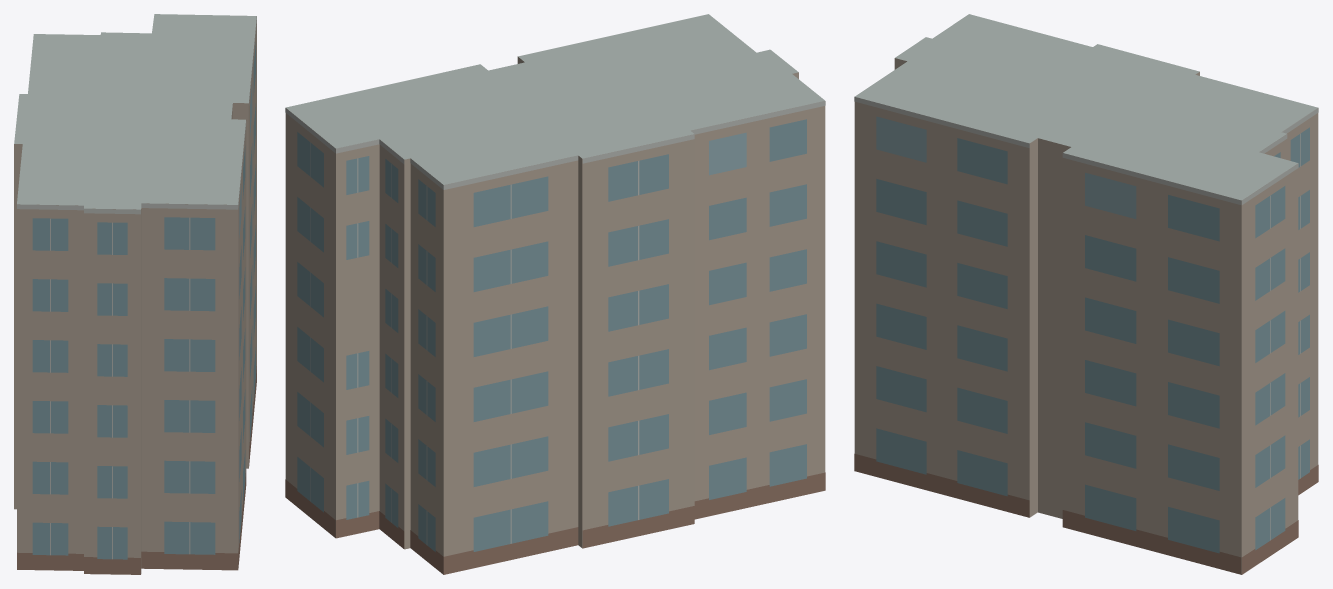
File: survey-upis-32745492.glb
3 views of the same model, side by side, from view 1: azimuth 30°, elevation 25°; view 2: azimuth 150°, elevation 25°; view 3: azimuth 270°, elevation 25° (orthographic). The views are drawn at different scales.
Parts seen in each view (by area): view 1: survey-upis-32745492.tmp; view 2: survey-upis-32745492.tmp; view 3: survey-upis-32745492.tmp.
Boxes of the visible parts, box(x1,y1,x2,y2) form: survey-upis-32745492.tmp: box(14, 14, 256, 574); survey-upis-32745492.tmp: box(285, 14, 825, 574); survey-upis-32745492.tmp: box(854, 14, 1318, 574).
Size of the model in its own units: 20.26 by 18.95 by 21.29.
